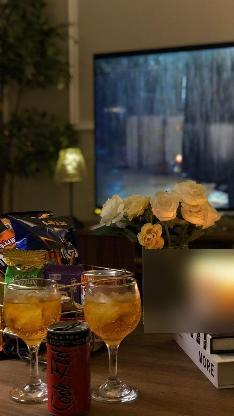Can: (47, 318, 92, 416)
